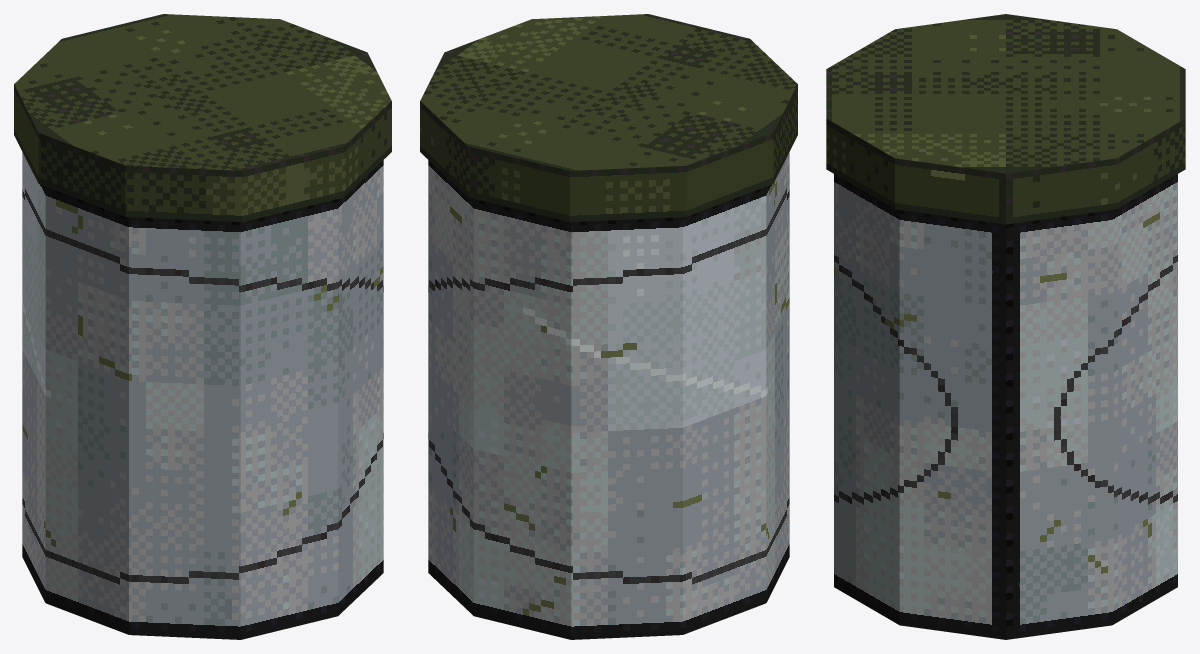
Rendered from SM_Jar_Glass_01.glb.
The picture shows the model from 3 angles, left to right: view 1: azimuth 30°, elevation 25°; view 2: azimuth 150°, elevation 25°; view 3: azimuth 270°, elevation 25°; orthographic projection.
Visible parts, largest first — view 1: SM_Jar_Glass_01; view 2: SM_Jar_Glass_01; view 3: SM_Jar_Glass_01.
Boxes of the visible parts, <box> form: SM_Jar_Glass_01: <box>14,14,391,639</box>; SM_Jar_Glass_01: <box>420,14,797,639</box>; SM_Jar_Glass_01: <box>826,14,1185,639</box>.
Bounding box in the file's own units: 0.094 × 0.129 × 0.0894.
1 material, 1 textured.
